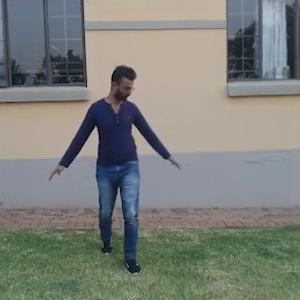land: (44, 61, 185, 271)
